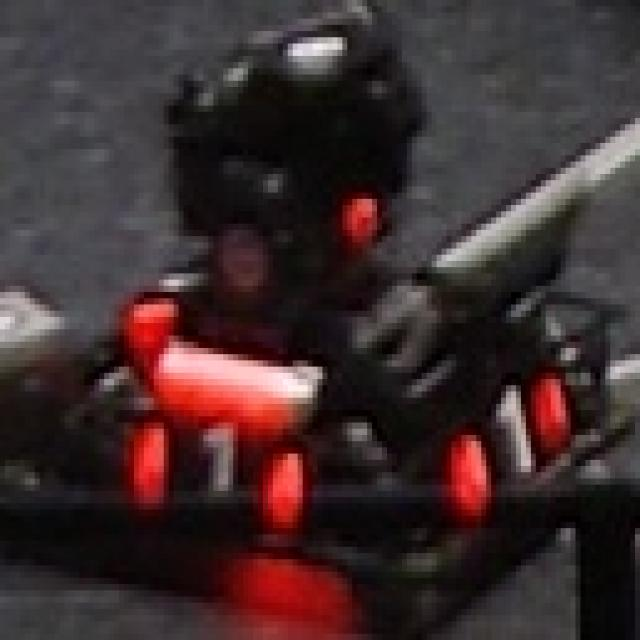R1: (119, 404, 303, 522), (426, 361, 570, 504)
